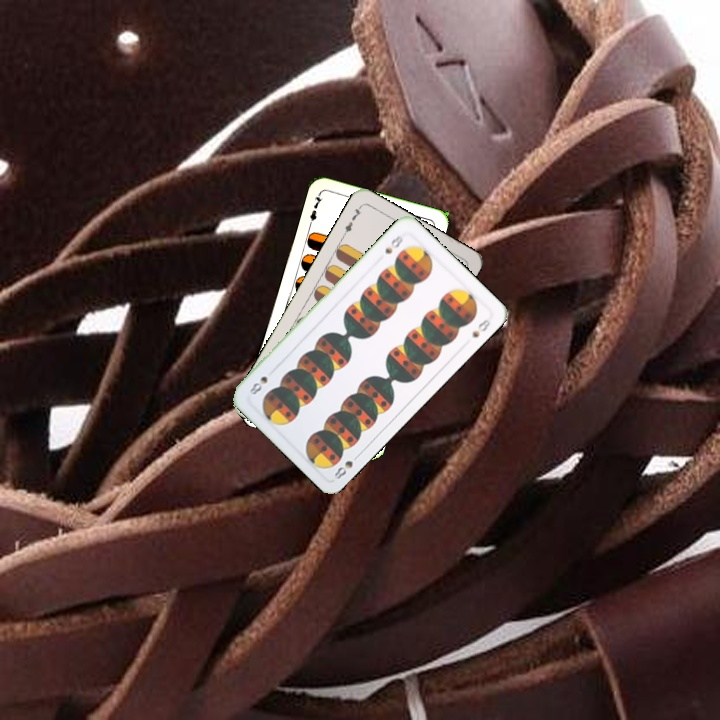E7: (339, 202, 364, 239), (305, 191, 325, 230)
S8: (330, 449, 363, 482), (381, 231, 406, 256)
